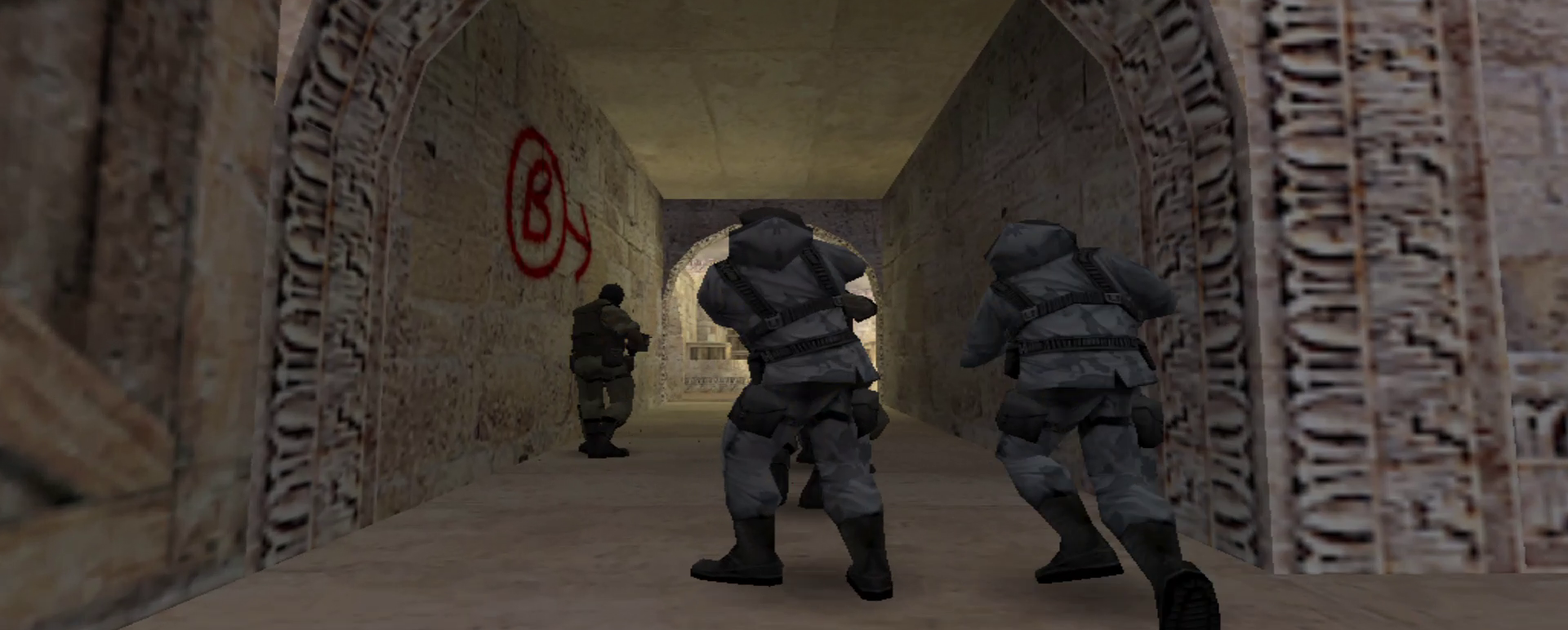ter: (962, 219, 1182, 623), (695, 208, 892, 598), (571, 305, 636, 459)
ter_head: (599, 283, 626, 304)
